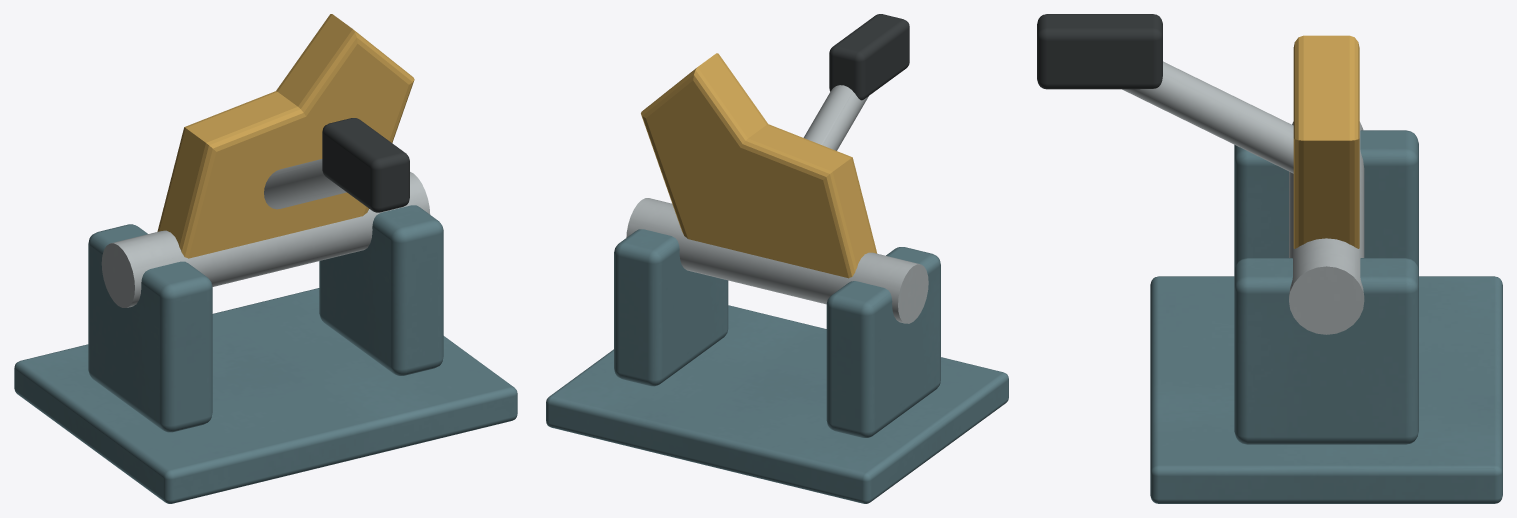
Rendered from gorgehold-survivor-gallery-and-operations-carriage-res-14747291__32894.glb.
3 views of the same model, side by side, from view 1: azimuth 30°, elevation 25°; view 2: azimuth 150°, elevation 25°; view 3: azimuth 270°, elevation 25° (orthographic). The views are drawn at different scales.
Visible parts, largest first — view 1: carriage-restraint-docking-latch; view 2: carriage-restraint-docking-latch; view 3: carriage-restraint-docking-latch.
Part boxes in pixels (x1,y1,x2,y2): carriage-restraint-docking-latch: (14,14,517,503); carriage-restraint-docking-latch: (546,14,1008,503); carriage-restraint-docking-latch: (1037,14,1502,503).
Bounding box in the file's own units: 0.55 × 0.547 × 0.555.
Materials: 4 (2 with a texture image).
